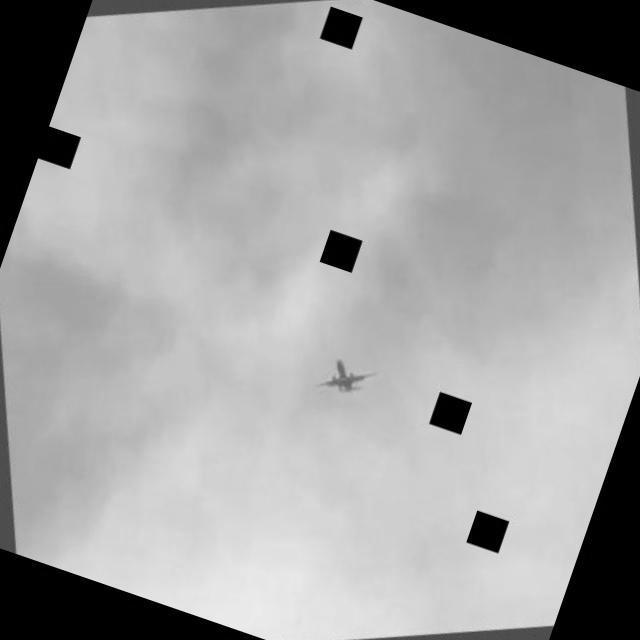aeroplane: (309, 345, 384, 411)
